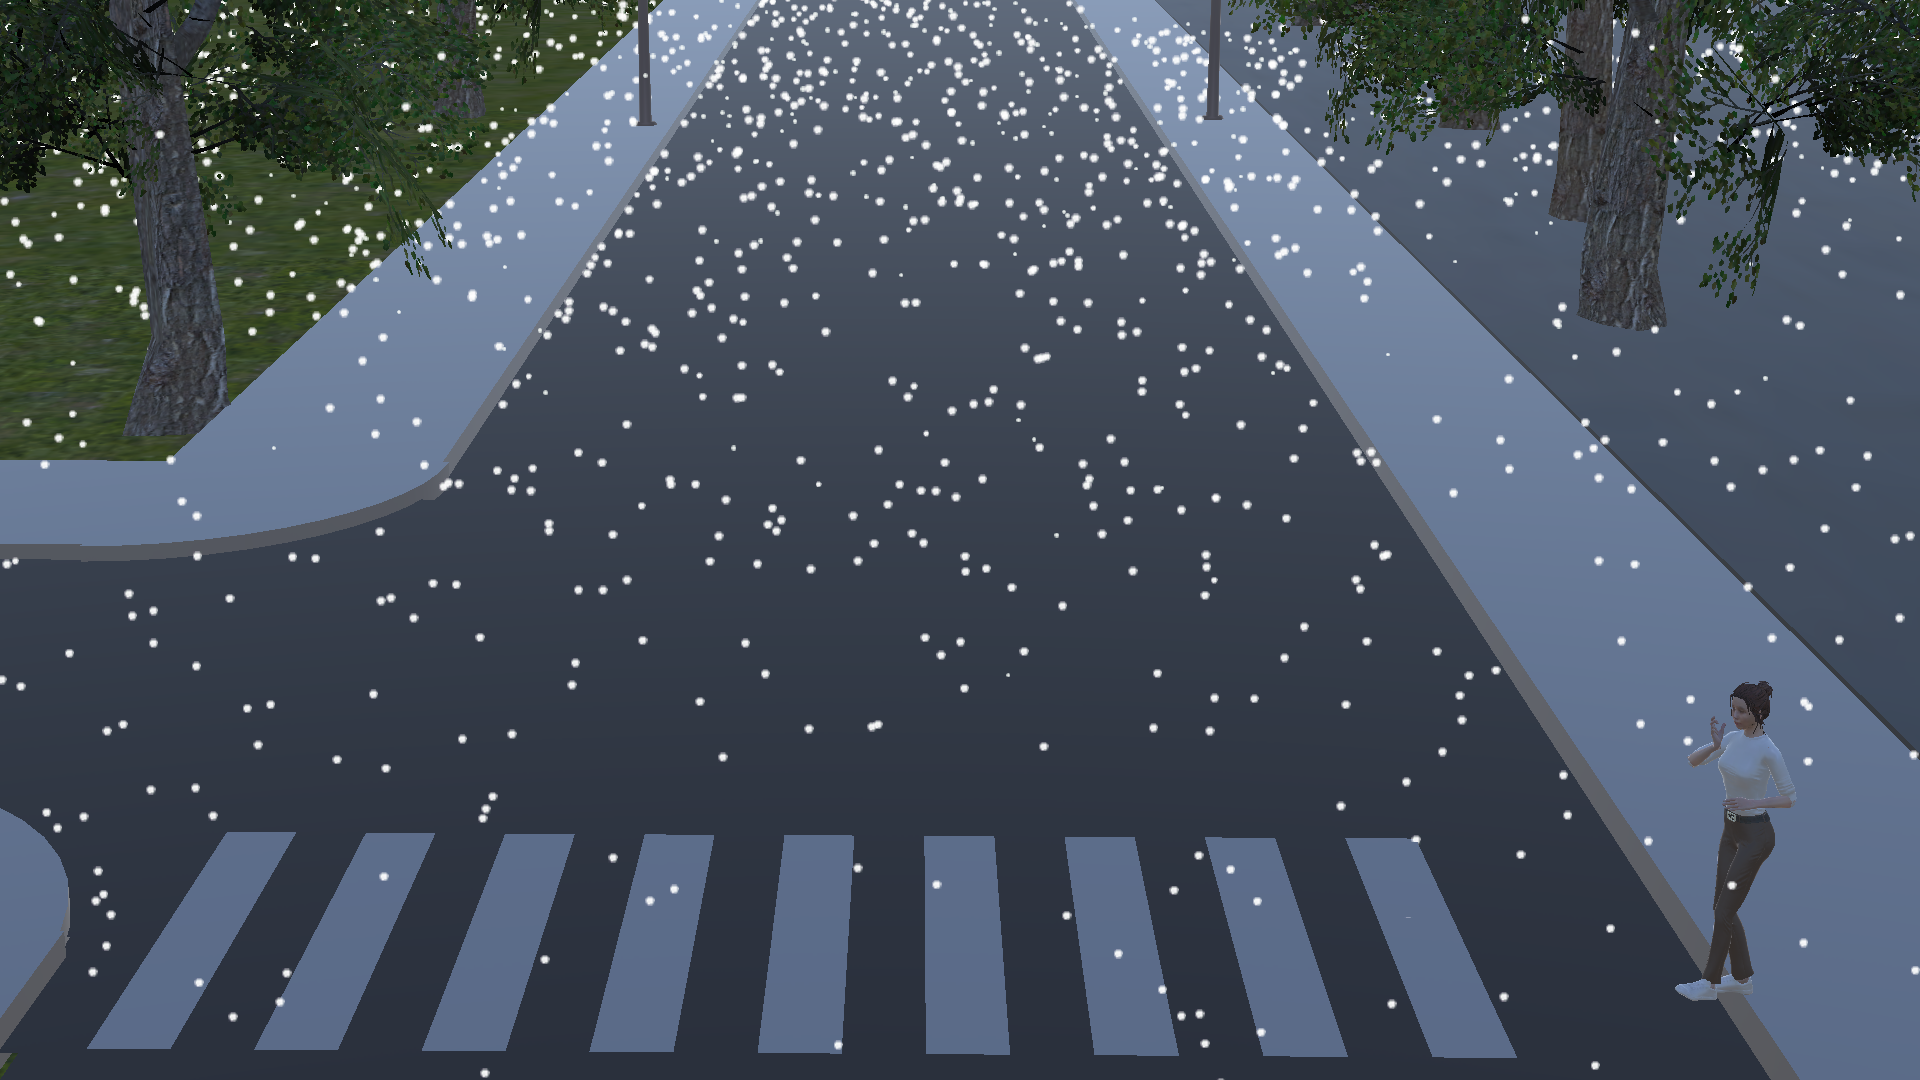pedestrian: (1657, 665, 1806, 1010)
